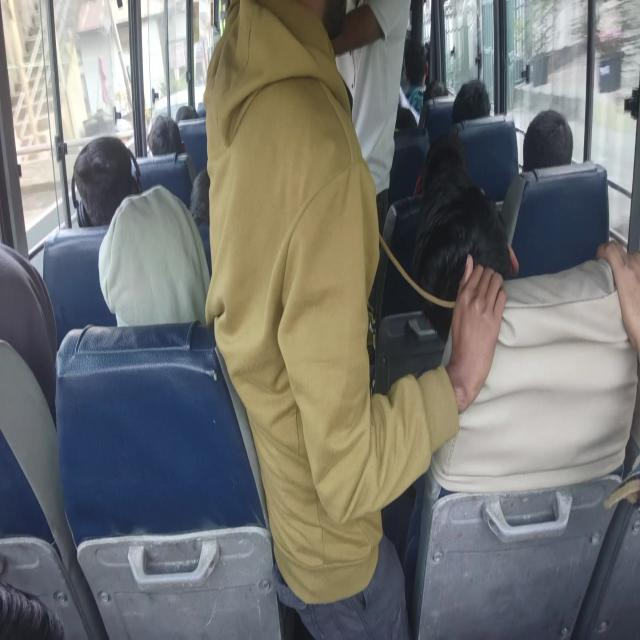person: (222, 0, 368, 234), (116, 198, 208, 336), (365, 0, 415, 210), (430, 202, 505, 312), (513, 109, 580, 178), (7, 248, 60, 328), (74, 136, 123, 208), (462, 78, 506, 137), (429, 142, 473, 196), (146, 117, 184, 160), (184, 175, 217, 222), (421, 77, 458, 116), (376, 107, 419, 140), (402, 45, 434, 88), (175, 92, 194, 117)
